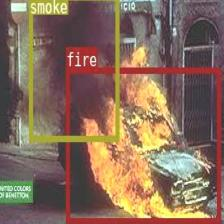fire: (66, 66, 220, 223)
smoke: (28, 0, 118, 139)
